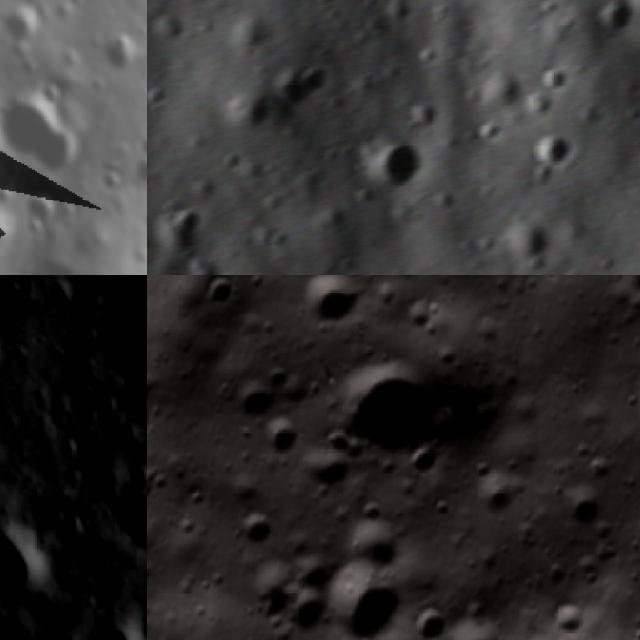crater: (322, 343, 463, 484), (309, 548, 420, 640), (0, 86, 84, 175), (359, 112, 442, 196), (281, 275, 375, 346), (549, 466, 628, 544), (212, 360, 290, 438), (228, 561, 302, 635), (290, 430, 364, 504), (459, 461, 532, 534), (0, 514, 53, 613), (219, 492, 290, 563), (268, 47, 342, 115), (491, 200, 564, 268), (251, 406, 320, 476), (516, 113, 586, 178), (279, 585, 353, 640), (102, 481, 147, 563), (430, 605, 535, 640), (185, 275, 248, 326), (161, 192, 215, 246), (147, 0, 198, 53), (541, 594, 595, 640), (405, 86, 454, 134), (587, 0, 640, 41), (75, 619, 147, 640), (147, 378, 165, 454), (17, 186, 54, 221), (91, 160, 125, 198), (107, 31, 144, 64), (126, 458, 147, 498), (0, 394, 10, 435)
